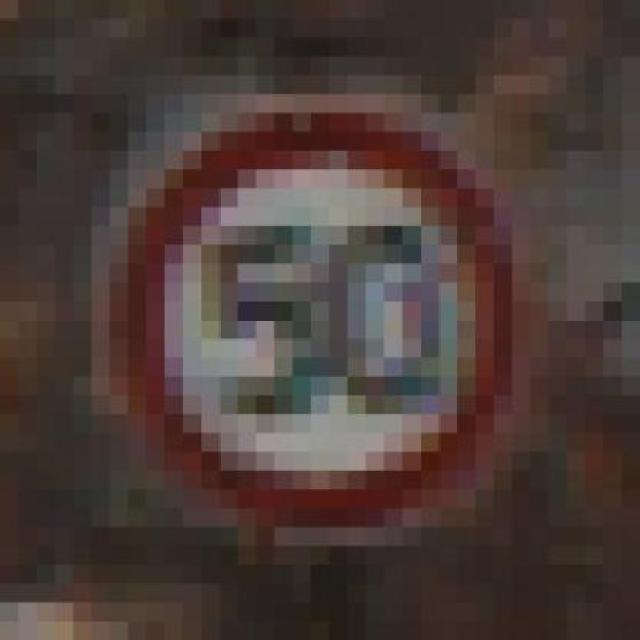50 mph speed limit: (111, 56, 551, 544)
